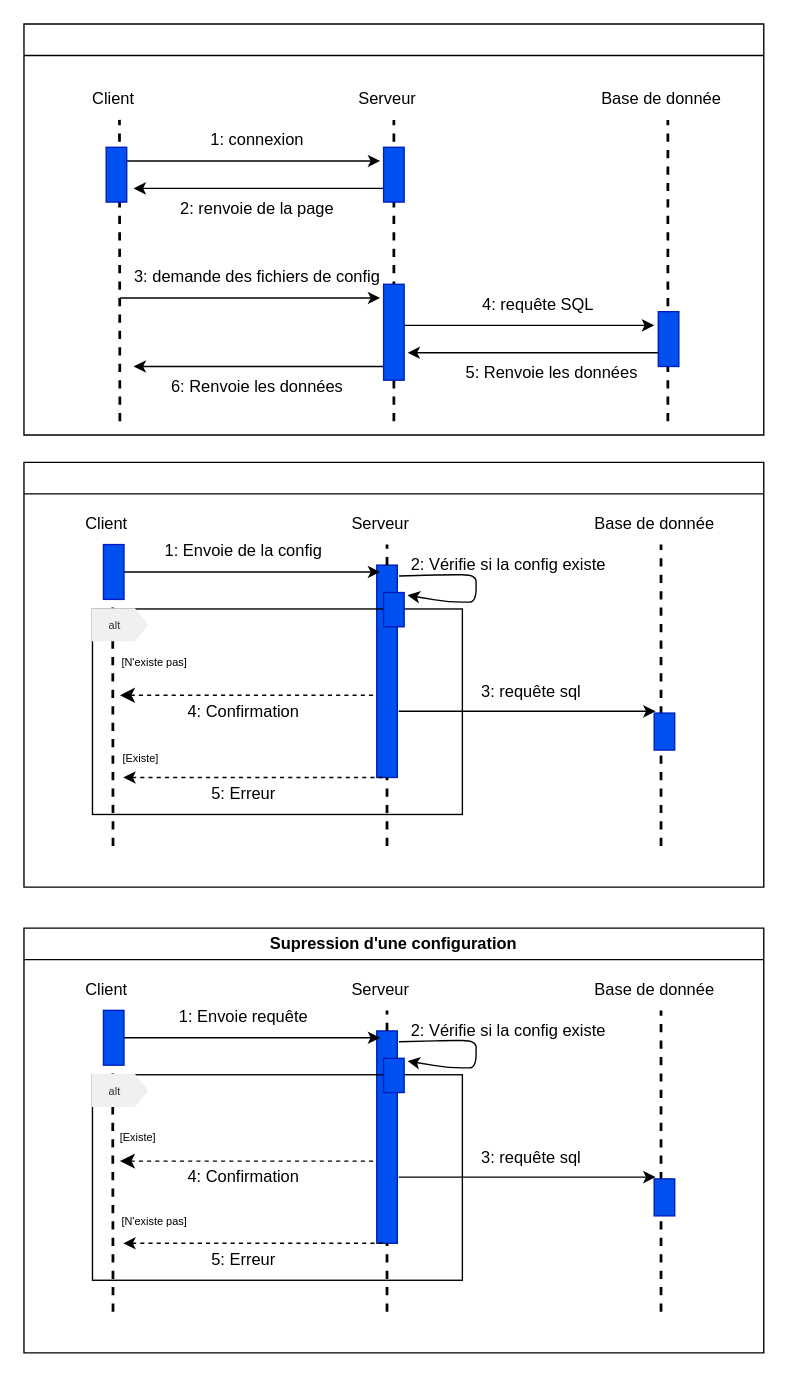
This 788x1377 diagram has some shape labels left out. Here are the shapes that lost their labels. From the top down, the box of each, then its label:
(23, 23, 764, 435): Connexion à la page
(23, 461, 764, 887): Création d'une nouvelle config
